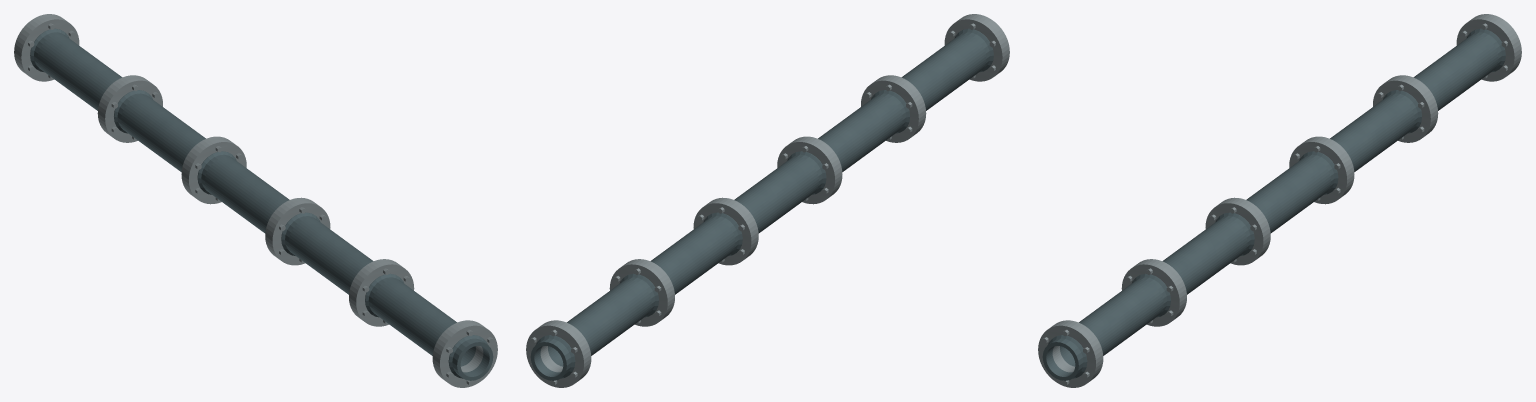
File: utility_flange_repeated_context.glb
3 views of the same model, side by side, from view 1: azimuth 30°, elevation 25°; view 2: azimuth 150°, elevation 25°; view 3: azimuth 330°, elevation 25° (orthographic).
Parts seen in each view (by area): view 1: utility_flange_repeated_context__staff_bluegrey_paint, utility_flange_repeated_context__staff_zinc; view 2: utility_flange_repeated_context__staff_bluegrey_paint, utility_flange_repeated_context__staff_zinc; view 3: utility_flange_repeated_context__staff_bluegrey_paint, utility_flange_repeated_context__staff_zinc.
Part boxes in pixels (<box>): utility_flange_repeated_context__staff_bluegrey_paint: <box>30,28,493,380</box>; utility_flange_repeated_context__staff_zinc: <box>14,14,497,387</box>; utility_flange_repeated_context__staff_bluegrey_paint: <box>530,28,993,380</box>; utility_flange_repeated_context__staff_zinc: <box>526,14,1009,387</box>; utility_flange_repeated_context__staff_bluegrey_paint: <box>1042,28,1505,380</box>; utility_flange_repeated_context__staff_zinc: <box>1038,14,1521,387</box>.
Size of the model in its own units: 0.32 by 0.32 by 4.19.
Materials: 2 (2 with a texture image).
